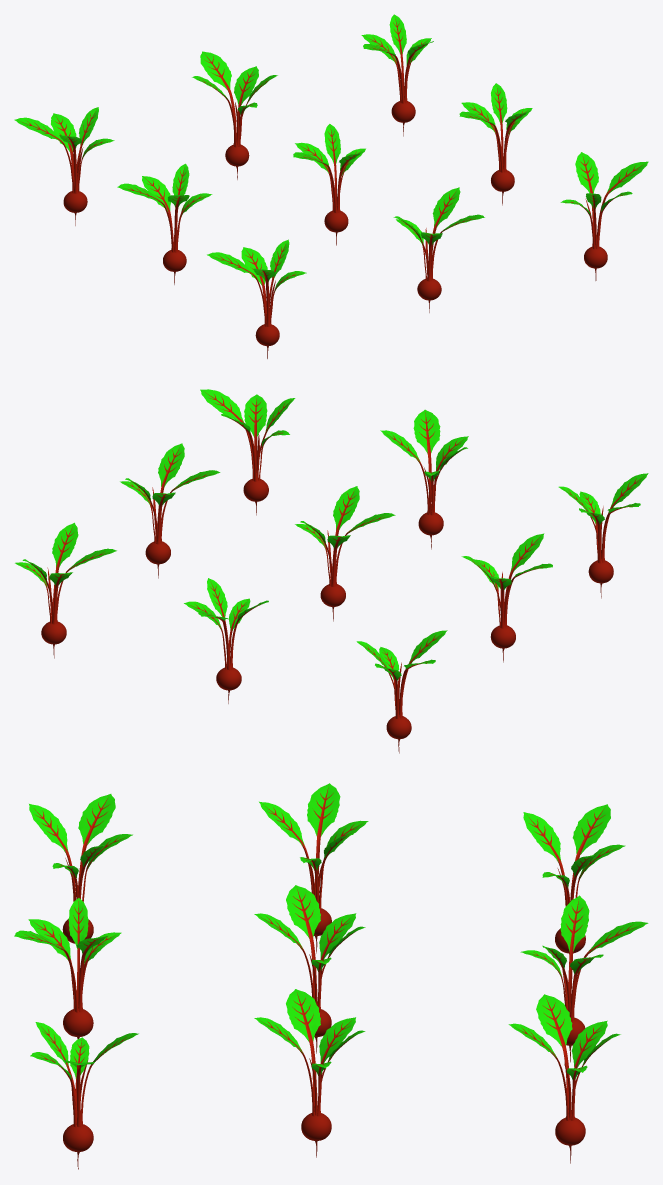
The model's file is Beet_lvl3.fbx.
3 views of the same model, one above another, from view 1: azimuth 30°, elevation 25°; view 2: azimuth 150°, elevation 25°; view 3: azimuth 270°, elevation 25° (orthographic). The views are drawn at different scales.
Parts seen in each view (by area): view 1: Beet_lvl3_LOD0; view 2: Beet_lvl3_LOD0; view 3: Beet_lvl3_LOD0.
Boxes of the visible parts, box(x1,y1,x2,y2) form: Beet_lvl3_LOD0: box(14, 14, 648, 358); Beet_lvl3_LOD0: box(15, 389, 648, 753); Beet_lvl3_LOD0: box(14, 783, 648, 1169).
Size of what is drawn, in the model's own units: 108 by 109 by 30.
